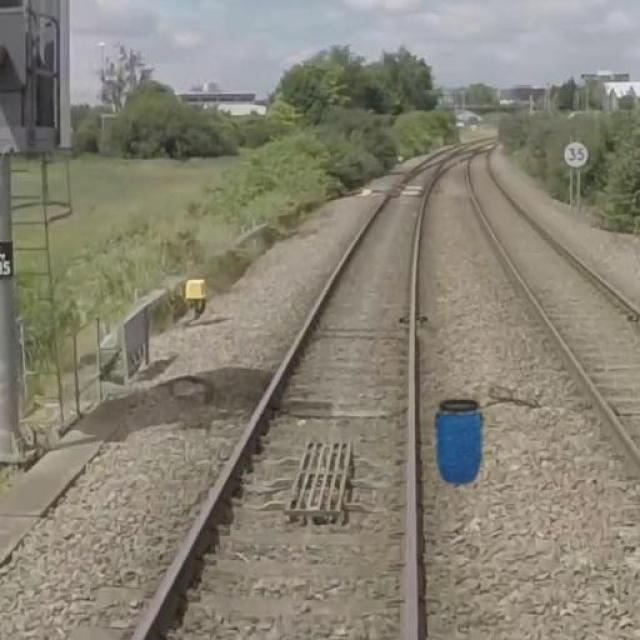Other_objects: (426, 390, 498, 492)
